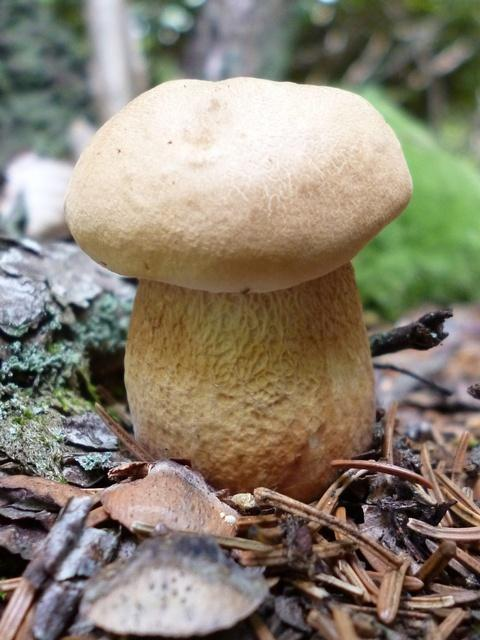poisonous_mushroom: (62, 74, 414, 502)
